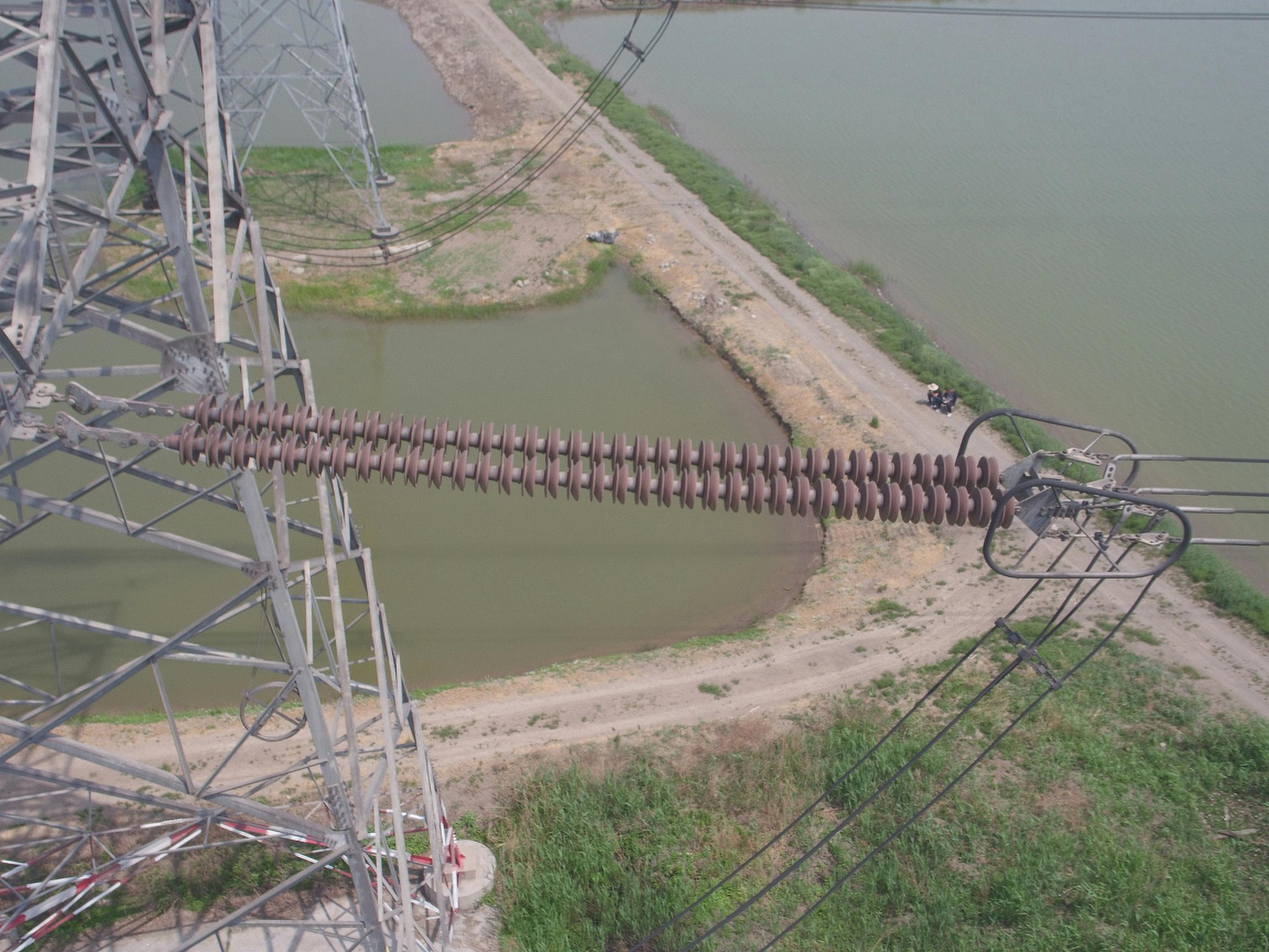insulator: (174, 390, 1019, 531)
